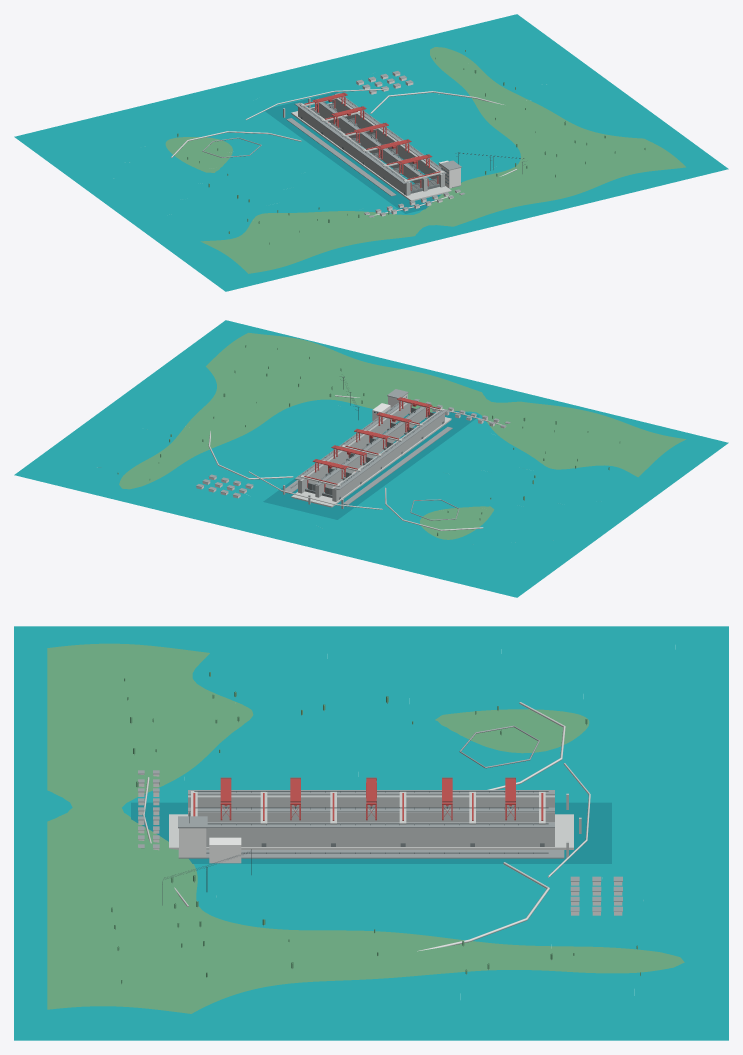
The model's file is dam-ship-lock-3d-model-glb.glb.
3 renders of one model, top to bottom at view 1: azimuth 30°, elevation 25°; view 2: azimuth 150°, elevation 25°; view 3: azimuth 270°, elevation 25°, orthographic. The views are drawn at different scales.
Visible parts, largest first — view 1: asset-wide-left-and-right-deep-water-surface, asset-terrain-wide-reservoir-banks, asset-central-navigation-channel-darker-water, left-outer-high-wall, right-outer-high-wall, center-divider-wall, lock-foundation-slab-long-concrete, left-top-service-road, left-bank-service-road, right-top-service-road, center-service-deck; view 2: asset-wide-left-and-right-deep-water-surface, asset-terrain-wide-reservoir-banks, asset-central-navigation-channel-darker-water, left-outer-high-wall, right-outer-high-wall, center-divider-wall, lock-foundation-slab-long-concrete, left-top-service-road, left-bank-service-road, right-top-service-road, center-service-deck; view 3: asset-wide-left-and-right-deep-water-surface, asset-terrain-wide-reservoir-banks, right-outer-high-wall, asset-central-navigation-channel-darker-water, left-outer-high-wall, center-divider-wall, right-parallel-dry-dock-service-apron, lock-foundation-slab-long-concrete, right-top-service-road, center-service-deck, left-top-service-road, white-control-building-side-volume (+1 smaller).
Boxes of the visible parts, x1=… form: asset-wide-left-and-right-deep-water-surface: x1=14, y1=14, x2=728, y2=291; asset-terrain-wide-reservoir-banks: x1=165, y1=47, x2=685, y2=273; asset-central-navigation-channel-darker-water: x1=263, y1=92, x2=461, y2=213; left-outer-high-wall: x1=298, y1=103, x2=410, y2=195; right-outer-high-wall: x1=332, y1=98, x2=444, y2=187; center-divider-wall: x1=316, y1=103, x2=427, y2=191; lock-foundation-slab-long-concrete: x1=291, y1=102, x2=451, y2=201; left-top-service-road: x1=294, y1=102, x2=408, y2=183; left-bank-service-road: x1=286, y1=118, x2=395, y2=196; right-top-service-road: x1=334, y1=93, x2=446, y2=174; center-service-deck: x1=317, y1=98, x2=427, y2=179; asset-wide-left-and-right-deep-water-surface: x1=14, y1=320, x2=728, y2=597; asset-terrain-wide-reservoir-banks: x1=119, y1=332, x2=685, y2=539; asset-central-navigation-channel-darker-water: x1=263, y1=411, x2=479, y2=519; left-outer-high-wall: x1=332, y1=411, x2=444, y2=501; right-outer-high-wall: x1=298, y1=403, x2=410, y2=493; center-divider-wall: x1=315, y1=408, x2=427, y2=497; lock-foundation-slab-long-concrete: x1=291, y1=412, x2=451, y2=507; left-top-service-road: x1=334, y1=408, x2=448, y2=489; left-bank-service-road: x1=343, y1=427, x2=452, y2=504; right-top-service-road: x1=295, y1=402, x2=405, y2=480; center-service-deck: x1=315, y1=406, x2=425, y2=485; asset-wide-left-and-right-deep-water-surface: x1=14, y1=626, x2=728, y2=1040; asset-terrain-wide-reservoir-banks: x1=47, y1=643, x2=684, y2=1013; right-outer-high-wall: x1=206, y1=822, x2=554, y2=846; asset-central-navigation-channel-darker-water: x1=131, y1=802, x2=611, y2=863; left-outer-high-wall: x1=188, y1=795, x2=554, y2=807; center-divider-wall: x1=188, y1=812, x2=554, y2=822; right-parallel-dry-dock-service-apron: x1=178, y1=850, x2=564, y2=858; lock-foundation-slab-long-concrete: x1=169, y1=814, x2=573, y2=849; right-top-service-road: x1=207, y1=822, x2=554, y2=827; center-service-deck: x1=188, y1=807, x2=554, y2=812; left-top-service-road: x1=188, y1=790, x2=554, y2=795; white-control-building-side-volume: x1=209, y1=837, x2=241, y2=863.
Size of the model in its own units: 310 by 19.3 by 226.
